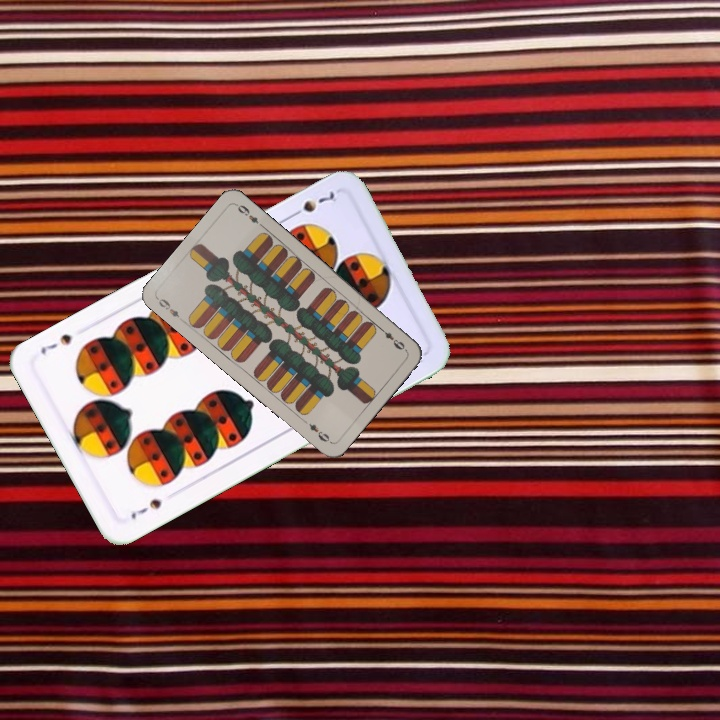E9: (375, 323, 409, 354), (153, 294, 187, 325)
S7: (285, 186, 338, 221), (126, 495, 165, 522)
